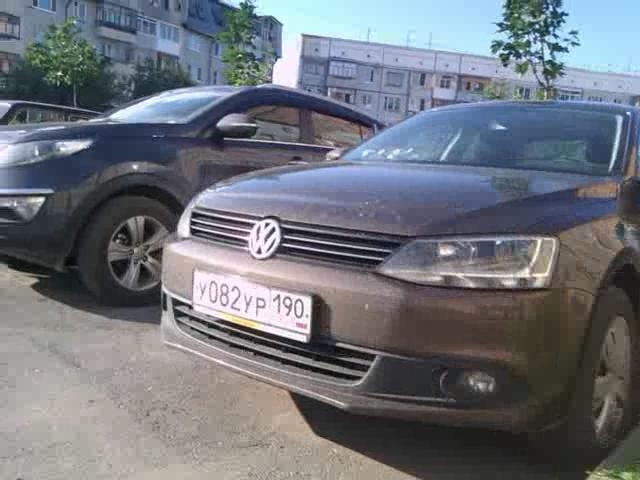car license plate: (188, 265, 315, 345)
